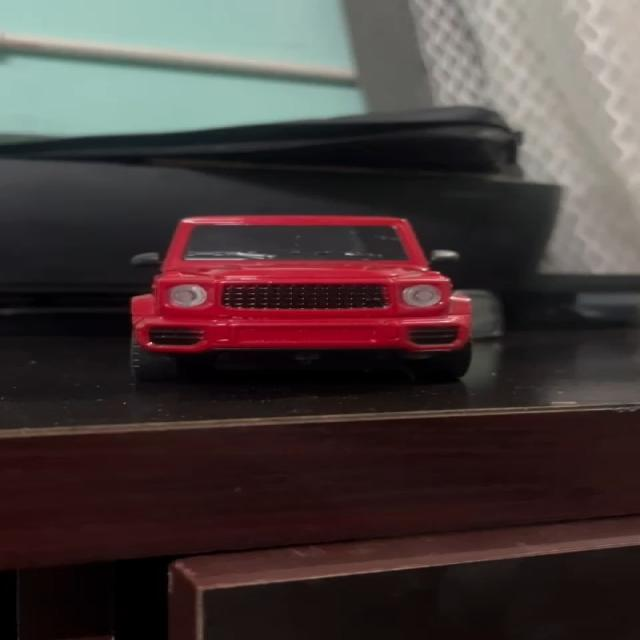light_vehicle: (116, 209, 472, 392)
